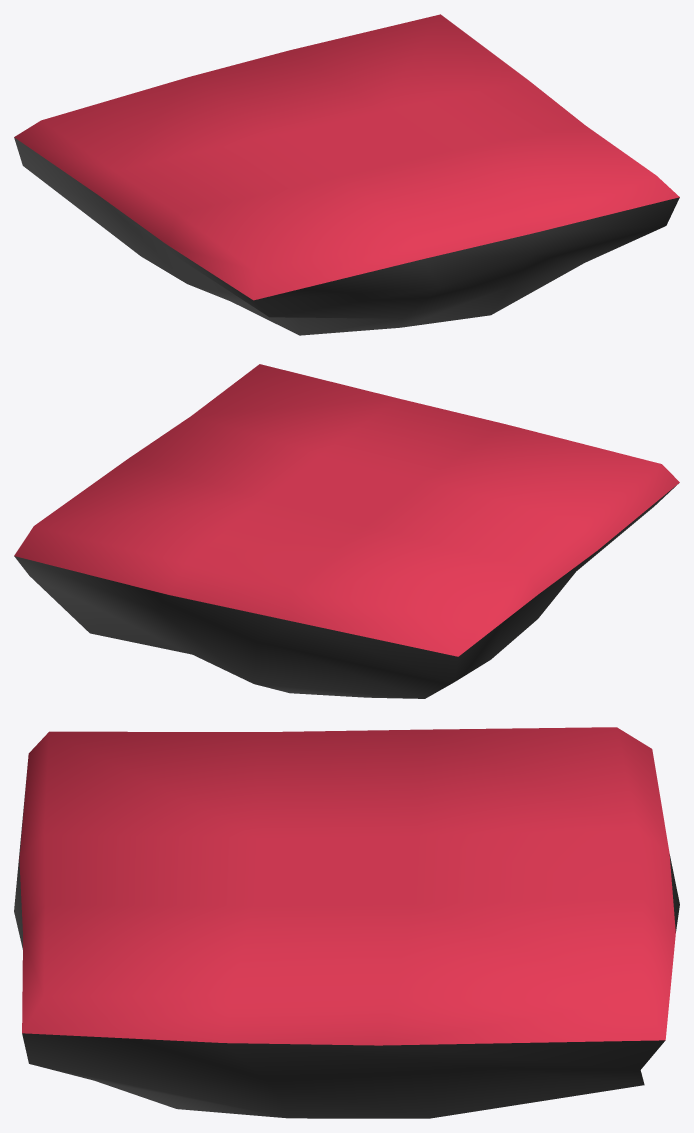
Rendered from FBX_EVT_SquareIsland_01.FBX.
The picture shows the model from 3 angles, top to bottom: view 1: azimuth 30°, elevation 25°; view 2: azimuth 150°, elevation 25°; view 3: azimuth 270°, elevation 25°; orthographic projection. The views are drawn at different scales.
Visible parts, largest first — view 1: Island; view 2: Island; view 3: Island.
Part boxes in pixels (<box>): Island: <box>14,14,679,335</box>; Island: <box>14,364,679,698</box>; Island: <box>14,727,679,1118</box>.
Size of the model in its own units: 1341 by 411 by 1301.
